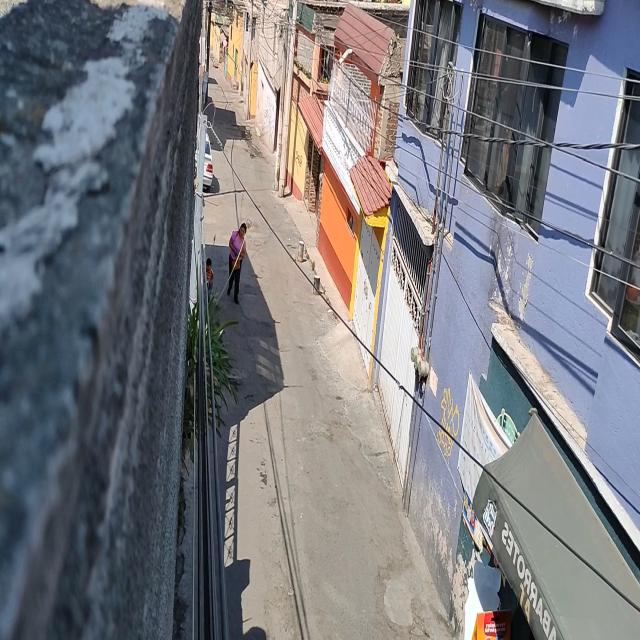adult: (226, 221, 246, 306)
